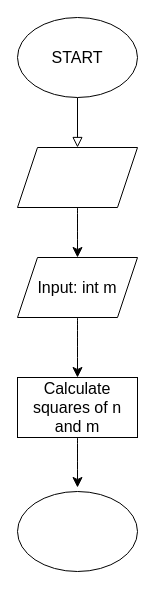
This 155x589 diagram has some shape labels left out. The centre of each missing label's shape, as x and y in pixels:
"END" goes at (77,531).
"Input: int n" goes at (77,177).
